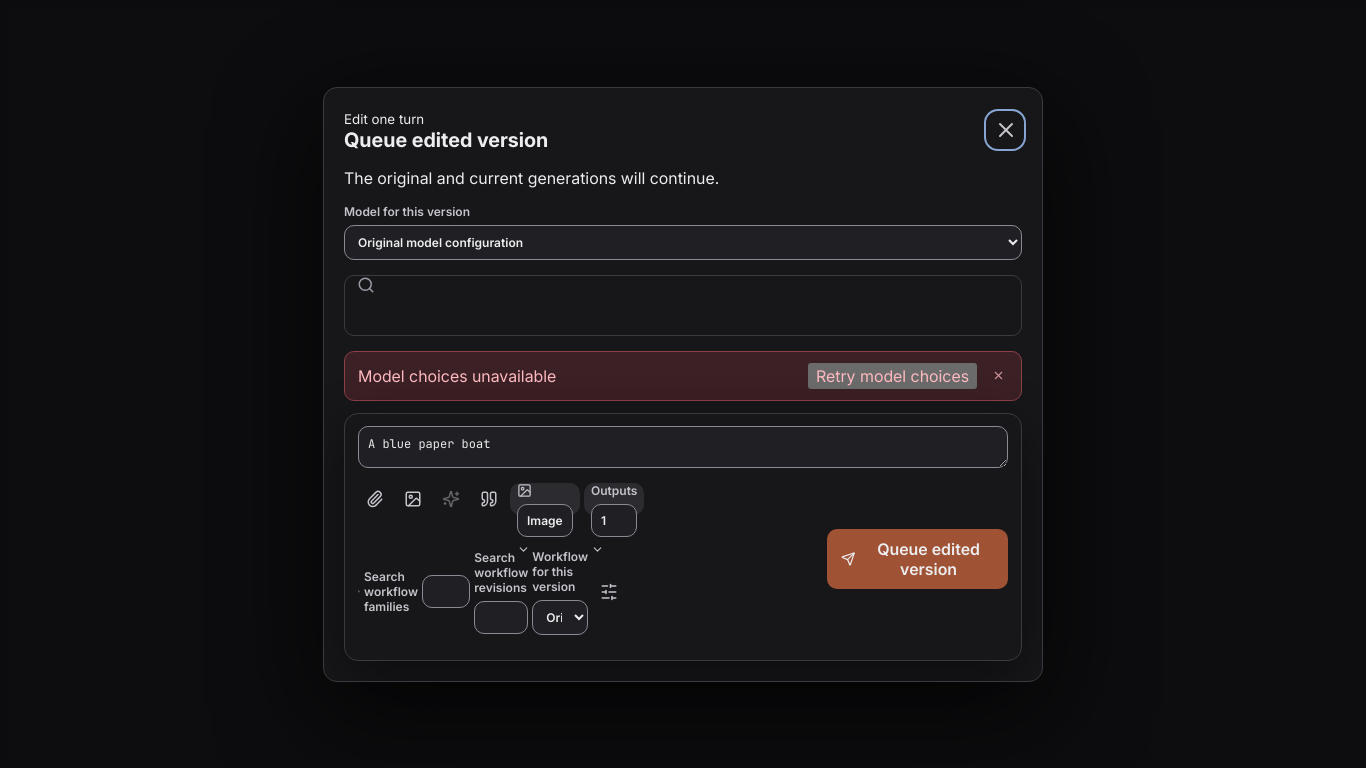
Test case: keeps frozen model configuration usable when current choices fail
The width and height of the screenshot is (1366, 768).
expect the text box named "Message" is shown: met, box [358,426,1008,468]
expect the button "Retry model choices" is shown: met, box [808,362,977,388]
Click the button named "Turn settings": (609, 592) [592,574,626,608]
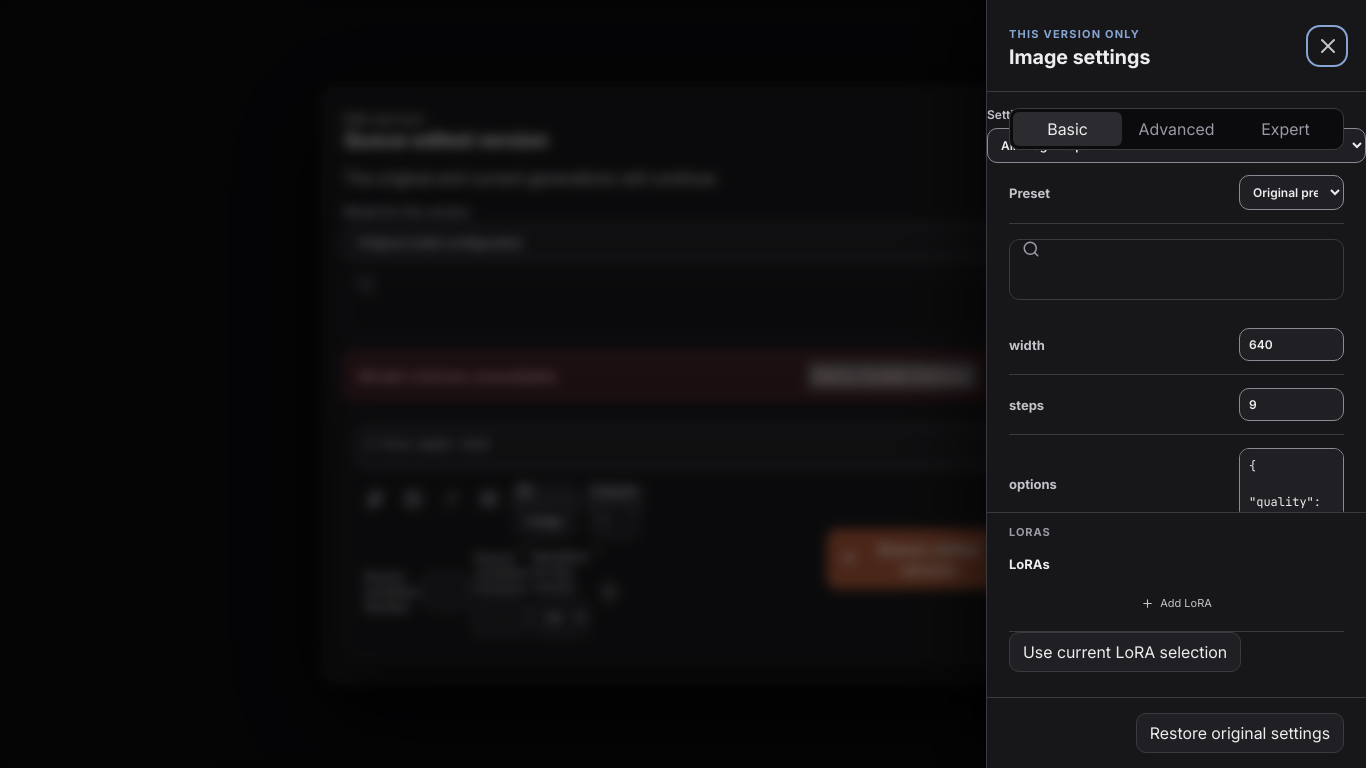
expect the number field labelled "width" holds "640": met, box [1239,328,1344,361]
Click the button named "Close settings": (1327, 46) [1310,28,1344,62]
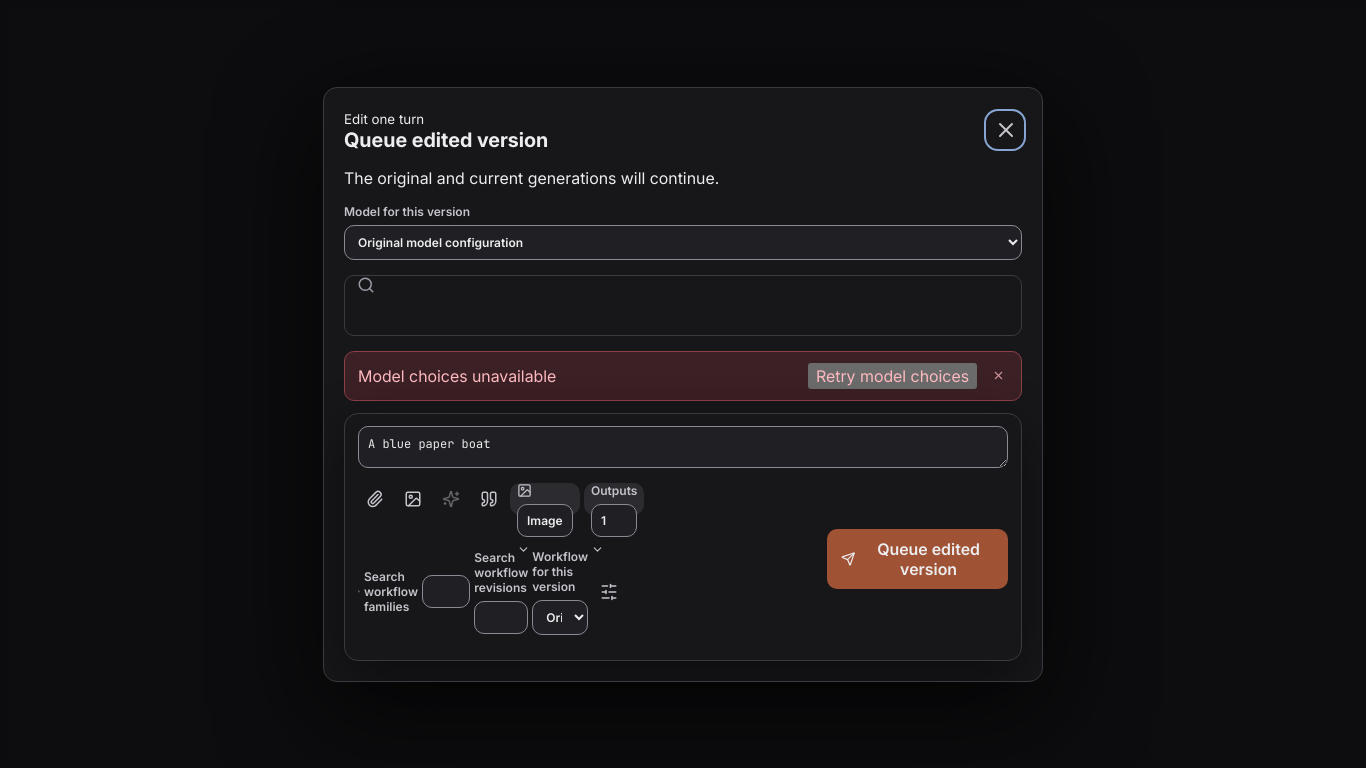
Click the button "Queue edited version": (917, 558) [827,528,1008,588]
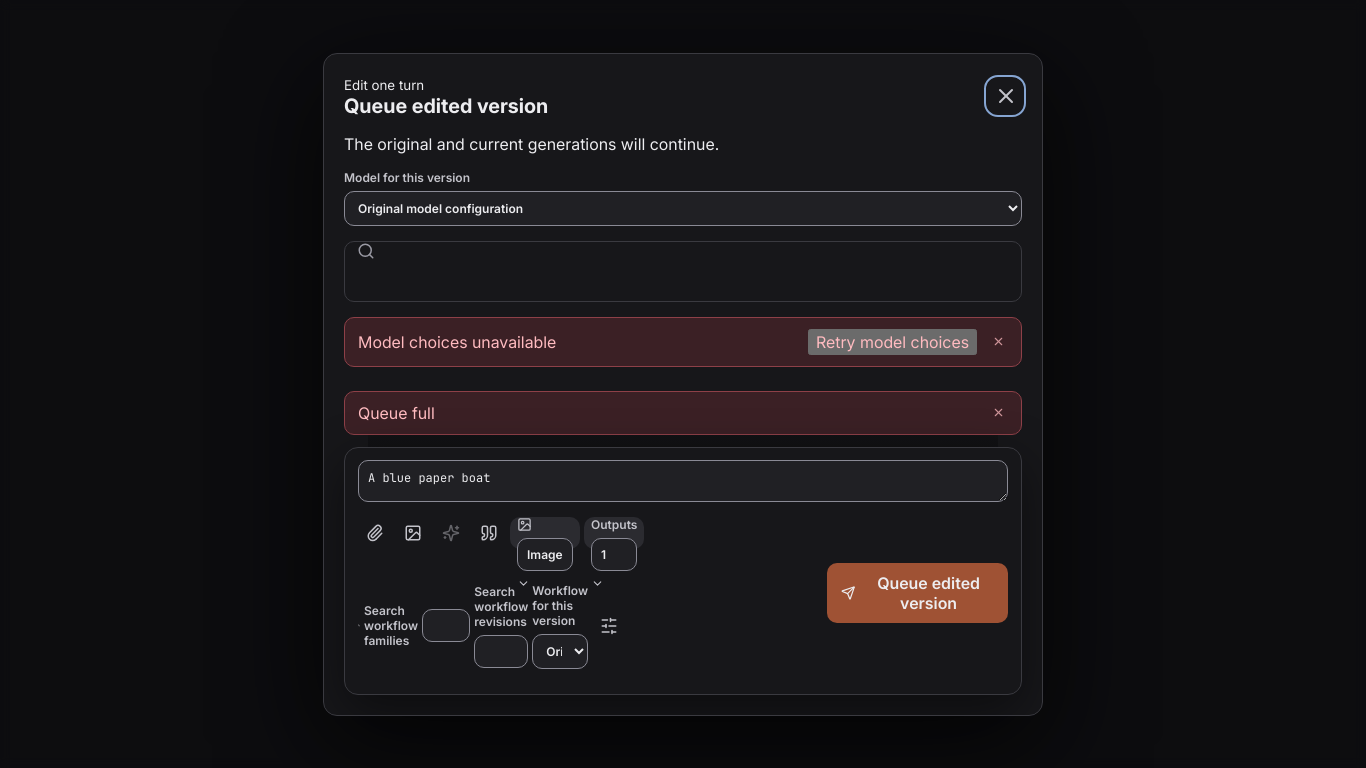
expect the text "Queue full" is shown: met, box [358,402,435,422]
